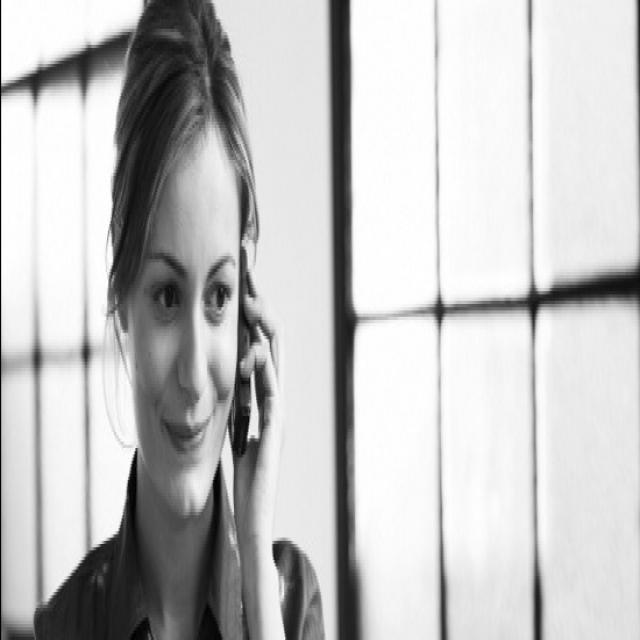phone: (194, 182, 290, 516)
